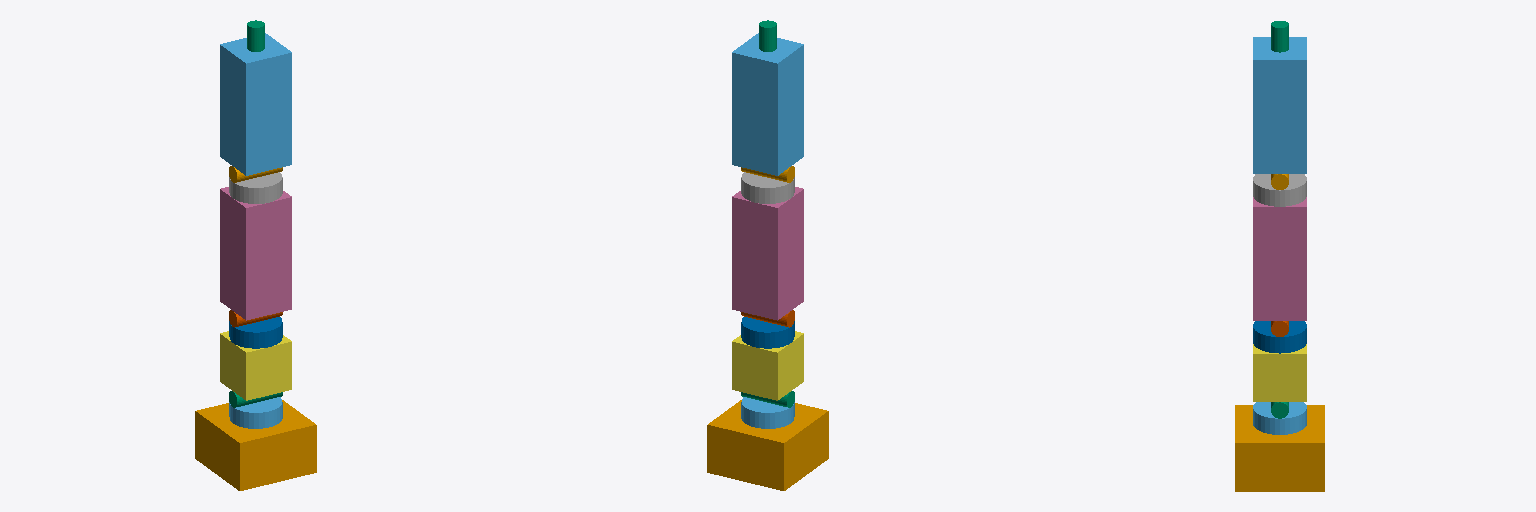
robot.urdf — arm:
<?xml version="1.0"?>
<robot name="arm">
  
  <link name="base_link">
    <visual>
      <geometry>
        <box size="0.5 0.5 0.3" />
      </geometry>
    </visual>
  </link>
<!-- first part-->
  <link name="rot_1_z">
    <visual>
      <geometry>
        <cylinder length="0.1" radius="0.15" />
      </geometry>
      <origin rpy="0 0 0" xyz="0 0 0.2"/>
    </visual>
  </link>

  <link name="rot_1_x">
    <visual>
      <geometry>
        <cylinder length="0.3" radius="0.05" />
      </geometry>
      <origin rpy="0 1.5708 0" xyz="0 0 0.3"/>
    </visual>
  </link>

  <link name="arm_1">
    <visual>
      <geometry>
        <box size="0.3 0.3 0.3" />
      </geometry>
      <origin rpy="0 0 0" xyz="0 0 0.5"/>
    </visual>
  </link>

  <!-- second part-->
  <link name="rot_2_z">
    <visual>
      <geometry>
        <cylinder length="0.1" radius="0.15" />
      </geometry>
      <origin rpy="0 0 0" xyz="0 0 0.7"/>
    </visual>
  </link>

  <link name="rot_2_x">
    <visual>
      <geometry>
        <cylinder length="0.3" radius="0.05" />
      </geometry>
      <origin rpy="0 1.5708 0" xyz="0 0 0.8"/>
    </visual>
  </link>

  <link name="arm_2">
    <visual>
      <geometry>
        <box size="0.3 0.3 0.7" />
      </geometry>
      <origin rpy="0 0 0" xyz="0 0 1.2"/>
    </visual>
  </link>

  <!-- Third part-->
  <link name="rot_3_z">
    <visual>
      <geometry>
        <cylinder length="0.1" radius="0.15" />
      </geometry>
      <origin rpy="0 0 0" xyz="0 0 1.6"/>
    </visual>
  </link>

  <link name="rot_3_x">
    <visual>
      <geometry>
        <cylinder length="0.3" radius="0.05" />
      </geometry>
      <origin rpy="0 1.5708 0" xyz="0 0 1.7"/>
    </visual>
  </link>

  <link name="arm_3_gripper">
    <visual>
      <geometry>
        <box size="0.3 0.3 0.7" />
      </geometry>
      <origin rpy="0 0 0" xyz="0 0 2.1"/>
    </visual>
  </link>

  <!-- Gripper part-->
  <link name="gripper_arm">
    <visual>
      <geometry>
        <cylinder length="0.2" radius="0.05"/>
      </geometry>
      <origin rpy="0 0 0 " xyz="0 0 2.5"/>
    </visual>
  </link>

  <link name="right_gripper">
    <visual>
      <origin rpy="-3.1415 -1.5708 0" xyz="0 -0.02 2.6"/>
      <geometry>
        <mesh filename="package://robot_arm/meshes/l_finger.dae" scale="4 4 4"/>
      </geometry>
    </visual>
  </link>

  <link name="left_gripper">
    <visual>
      <origin rpy="0.0 -1.5708 0" xyz="0 0.02 2.6"/>
      <geometry>
        <mesh filename="package://robot_arm/meshes/l_finger.dae" scale="4 4 4"/>
      </geometry>
    </visual>
  </link>

  <!-- Joint - First part-->
  <joint name="base_to_rot_1_z" type="fixed" >
    <parent link="base_link"/>
    <child link="rot_1_z"/>
  </joint>
  <joint name="rot_1_z_to_rot_1_x" type="fixed">
    <parent link="rot_1_z"/>
    <child link="rot_1_x"/>
  </joint>
  <joint name="rot_1_x_to_arm_1" type="fixed">
    <parent link="rot_1_x"/>
    <child link="arm_1"/>
  </joint>

  <!-- Joint - Second part-->
  <joint name="arm_1_rot_2_z" type="fixed">
    <parent link="arm_1"/>
    <child link="rot_2_z"/>
  </joint>
  <joint name="rot_2_z_to_rot_2_x" type="fixed">
    <parent link="rot_2_z"/>
    <child link="rot_2_x"/>
  </joint>
  <joint name="rot_2_x_to_arm_2" type="fixed">
    <parent link="rot_2_x"/>
    <child link="arm_2"/>
  </joint>

  <!-- Joint - Third part-->
  <joint name="arm_2_rot_3_z" type="fixed">
    <parent link="arm_2"/>
    <child link="rot_3_z"/>
  </joint>
  <joint name="rot_3_z_to_rot_3_x" type="fixed">
    <parent link="rot_3_z"/>
    <child link="rot_3_x"/>
  </joint>
  <joint name="rot_3_x_to_arm_3_gripper" type="fixed">
    <parent link="rot_3_x"/>
    <child link="arm_3_gripper"/>
  </joint>

    <!-- Joint - Gripper part-->
    <joint name="gripper_joint" type="fixed">
      <parent link="arm_3_gripper"/>
      <child link="gripper_arm"/>
    </joint>
    <joint name="left_gripper_joint" type="fixed">
      <parent link="gripper_arm"/>
      <child link="left_gripper"/>
    </joint>
    <joint name="right_gripper_joint" type="fixed">
      <parent link="gripper_arm"/>
      <child link="right_gripper"/>
    </joint>
  
</robot>

--- Render facts (derived) ---
3 views of the same robot in one strip: view 1: azimuth 30°, elevation 25°; view 2: azimuth 150°, elevation 25°; view 3: azimuth 270°, elevation 25° (orthographic).
Robot: arm — 13 links, 12 joints (12 fixed); root link base_link; default pose: all joints at 0.
Visible links, largest first — view 1: arm_3_gripper, arm_2, base_link, arm_1, rot_2_z, rot_1_z, rot_3_z, gripper_arm; view 2: arm_3_gripper, arm_2, base_link, arm_1, rot_2_z, rot_1_z, rot_3_z, gripper_arm; view 3: arm_3_gripper, base_link, arm_2, arm_1, rot_1_z, rot_3_z, rot_2_z, gripper_arm.
Link boxes in pixels (x1,y1,x2,y2): arm_3_gripper: (220,33,291,175); arm_2: (220,187,291,320); base_link: (195,400,316,490); arm_1: (220,331,291,400); rot_2_z: (229,317,282,348); rot_1_z: (229,397,282,428); rot_3_z: (229,172,282,203); gripper_arm: (247,20,264,51); arm_3_gripper: (732,33,803,175); arm_2: (732,187,803,320); base_link: (707,400,828,490); arm_1: (732,331,803,400); rot_2_z: (741,317,794,348); rot_1_z: (741,397,794,428); rot_3_z: (741,172,794,203); gripper_arm: (759,20,776,51); arm_3_gripper: (1253,37,1306,173); base_link: (1235,405,1324,491); arm_2: (1253,197,1306,320); arm_1: (1253,344,1306,401); rot_1_z: (1253,402,1306,434); rot_3_z: (1253,174,1306,206); rot_2_z: (1253,321,1306,353); gripper_arm: (1271,21,1288,52).
Size in the robot's own frame: 0.5 by 0.5 by 2.75 metres.
Meshes: 1 distinct files referenced, 0 mesh visuals loaded (none loaded); not drawn: 2 (reference not matched to a file when rendering).